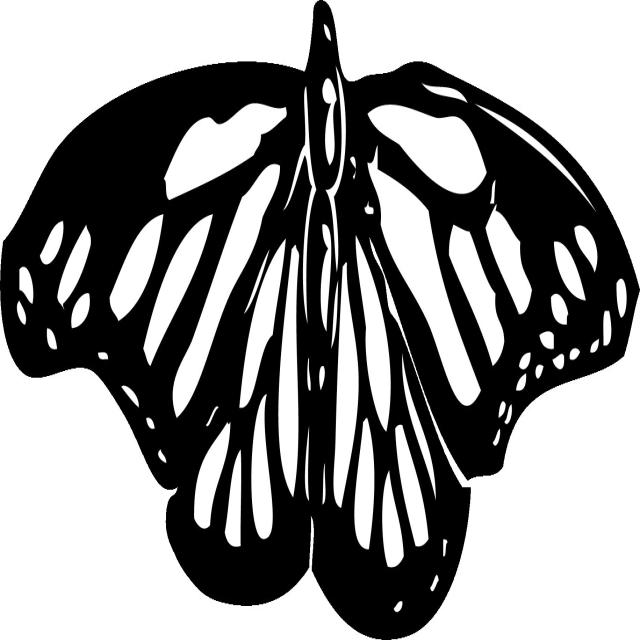butterfly: (0, 0, 638, 639)
